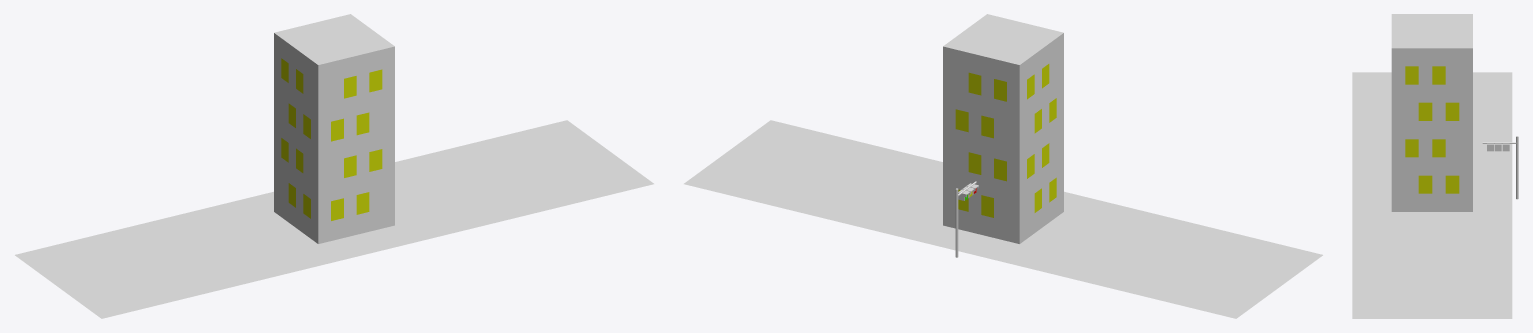
3 renders of one model, left to right at view 1: azimuth 30°, elevation 25°; view 2: azimuth 150°, elevation 25°; view 3: azimuth 270°, elevation 25°, orthographic. The views are drawn at different scales.
Visible parts, largest first — view 1: 平面, 立方体; view 2: 平面, 立方体, 円柱; view 3: 平面, 立方体, 円柱.
Part boxes in pixels (x1=…): 平面: x1=15, y1=120, x2=653, y2=318; 立方体: x1=274, y1=14, x2=394, y2=243; 平面: x1=684, y1=120, x2=1322, y2=318; 立方体: x1=943, y1=14, x2=1063, y2=243; 円柱: x1=955, y1=181, x2=978, y2=257; 平面: x1=1352, y1=72, x2=1512, y2=318; 立方体: x1=1391, y1=14, x2=1472, y2=211; 円柱: x1=1482, y1=136, x2=1518, y2=199.
Bounding box in the file's own units: 1440 × 457 × 410.
